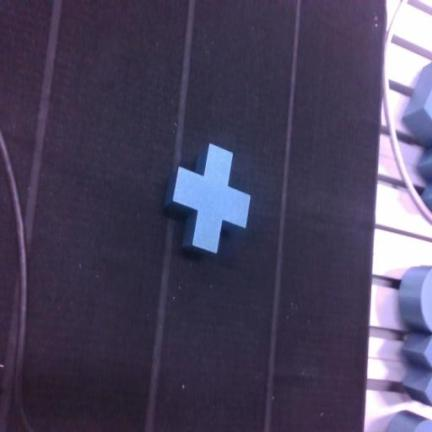cross: (166, 145, 250, 253)
